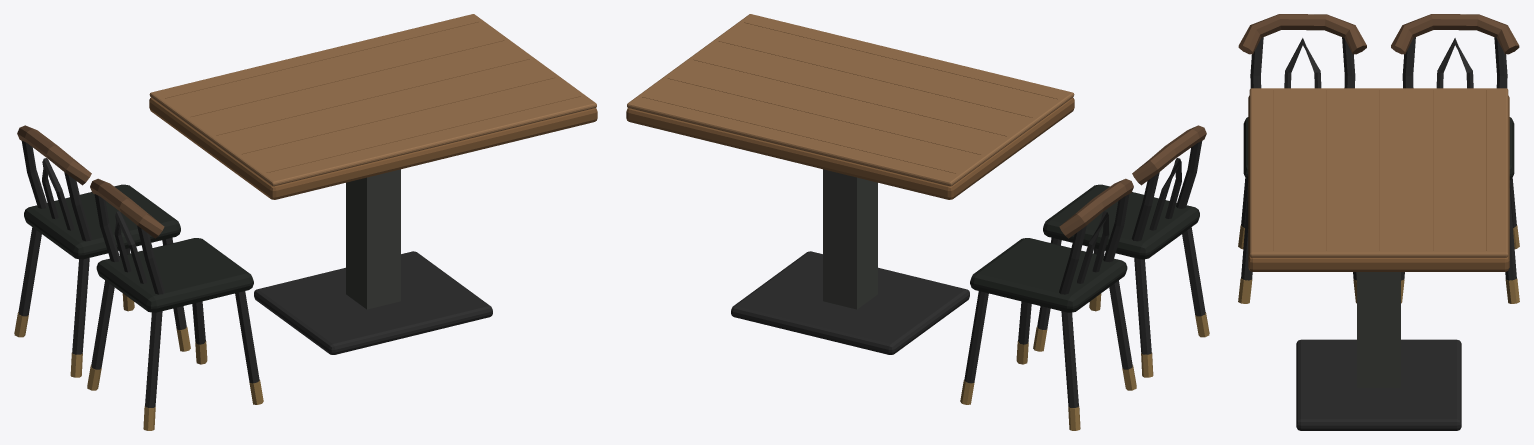
File: table.glb
3 views of the same model, side by side, from view 1: azimuth 30°, elevation 25°; view 2: azimuth 150°, elevation 25°; view 3: azimuth 270°, elevation 25° (orthographic). The views are drawn at different scales.
Visible parts, largest first — view 1: DimDimSumTable; view 2: DimDimSumTable; view 3: DimDimSumTable.
Boxes of the visible parts, <box> form: DimDimSumTable: <box>14,14,597,430</box>; DimDimSumTable: <box>626,14,1209,430</box>; DimDimSumTable: <box>1238,14,1519,430</box>.
Bounding box in the file's own units: 1.76 × 0.7976 × 0.8848.
